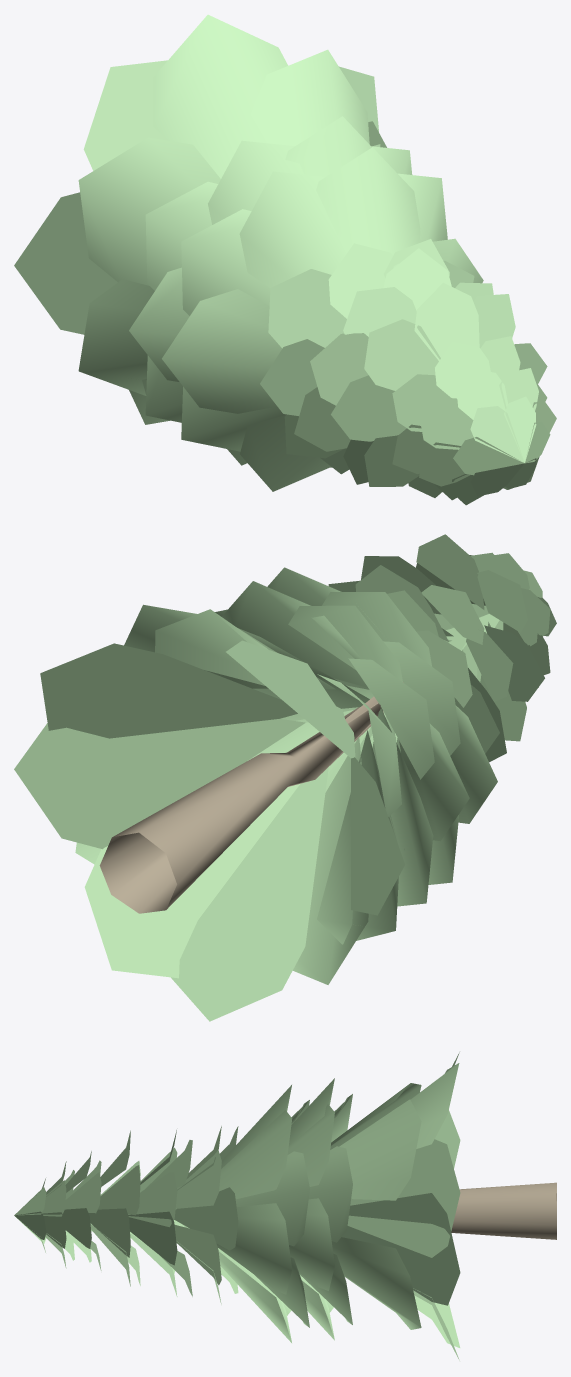
Rendered from tree_needle_low.glb.
3 views of the same model, one above another, from view 1: azimuth 30°, elevation 25°; view 2: azimuth 150°, elevation 25°; view 3: azimuth 270°, elevation 25° (orthographic). The views are drawn at different scales.
Parts seen in each view (by area): view 1: Leaves6_0; view 2: Leaves6_0, TreeSpruce_0; view 3: Leaves6_0, TreeSpruce_0.
Boxes of the visible parts, x1,y1,x2,y2 form: Leaves6_0: [14, 14, 556, 505]; Leaves6_0: [14, 534, 556, 1021]; TreeSpruce_0: [99, 682, 403, 913]; Leaves6_0: [14, 1052, 460, 1360]; TreeSpruce_0: [451, 1182, 556, 1239].
Bounding box in the file's own units: 5.66 × 5.7 × 9.81.
